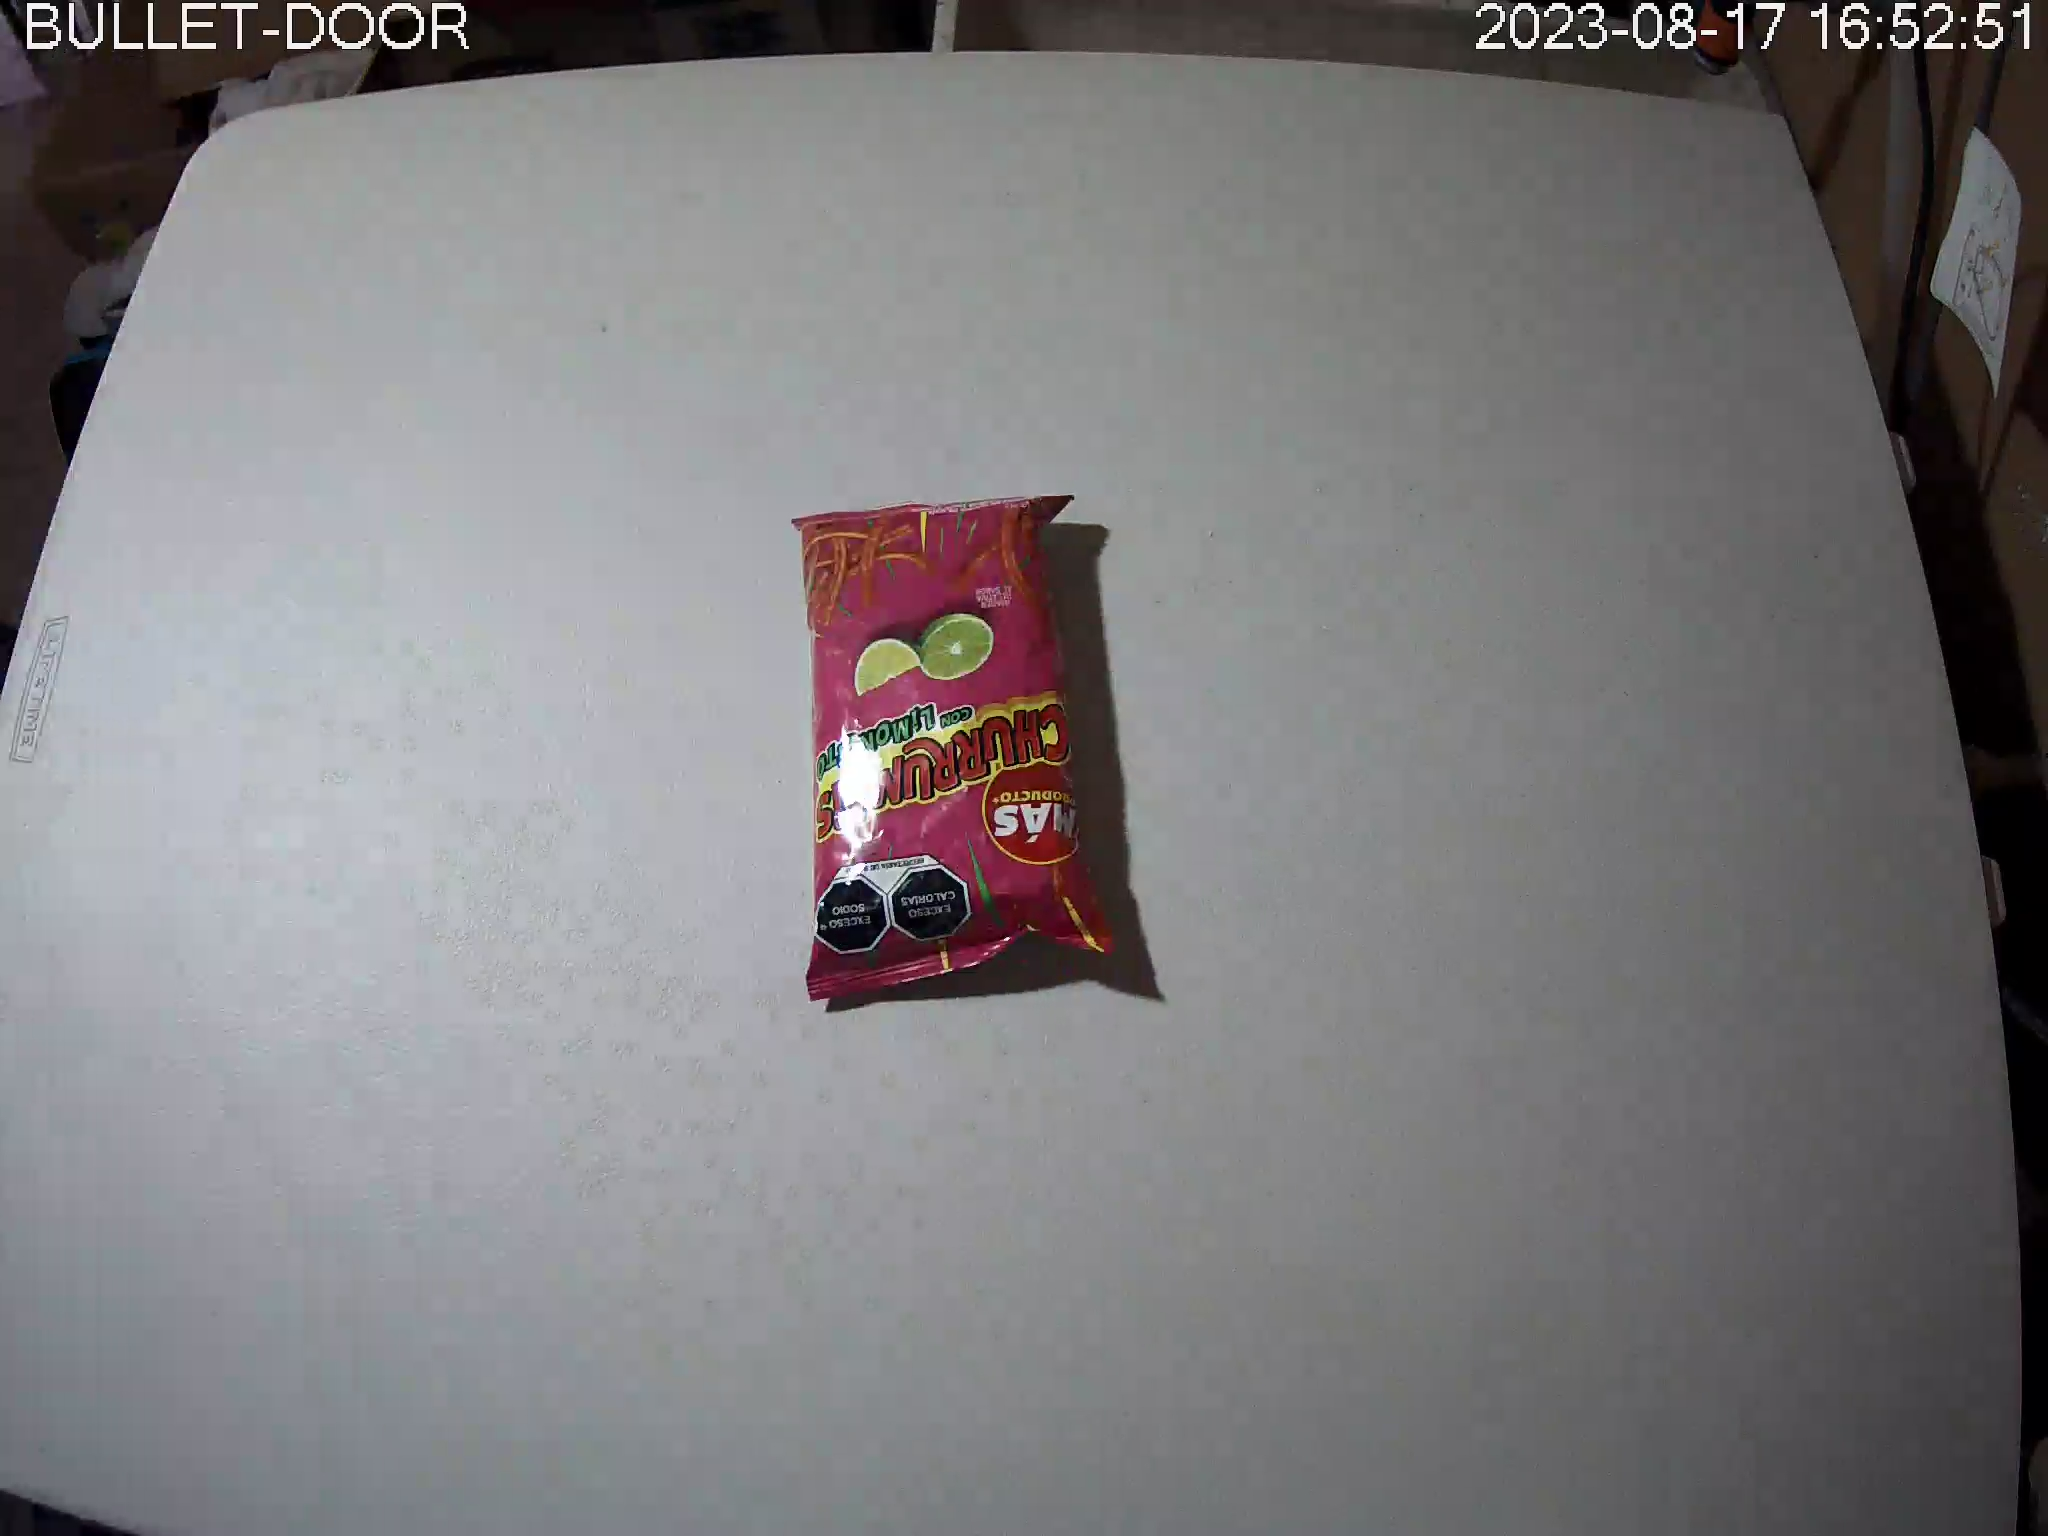Churrumais_70_F: (792, 492, 1116, 1002)
